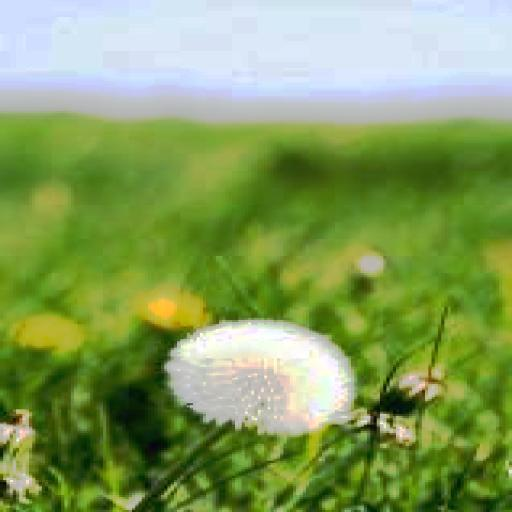dandelion: (161, 318, 361, 437)
